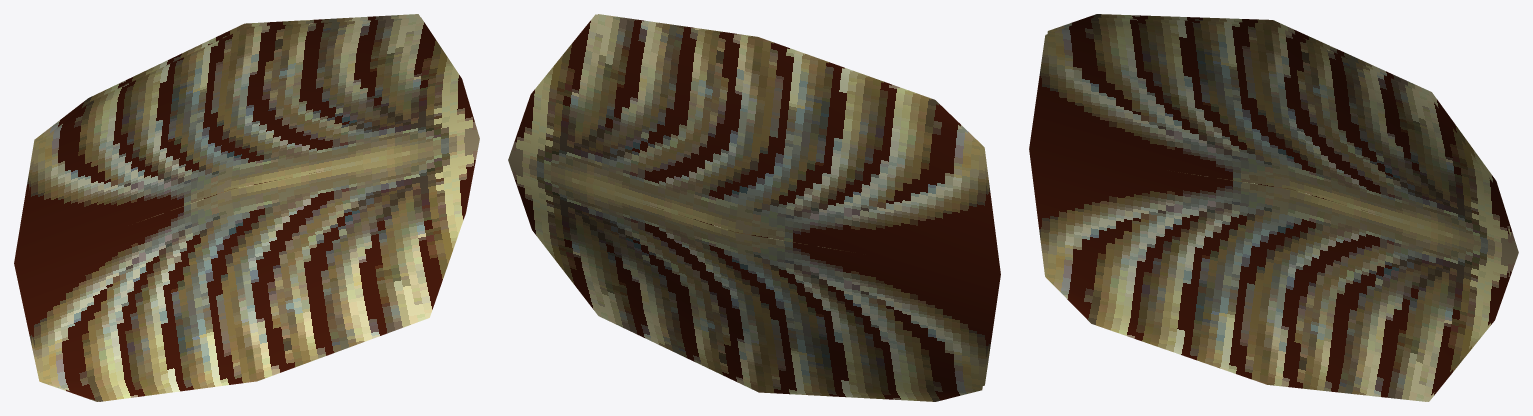
The picture shows the model from 3 angles, left to right: view 1: azimuth 30°, elevation 25°; view 2: azimuth 150°, elevation 25°; view 3: azimuth 330°, elevation 25°; orthographic projection. The views are drawn at different scales.
Visible parts, largest first — view 1: IT212_DMSPRITEDEF_node; view 2: IT212_DMSPRITEDEF_node; view 3: IT212_DMSPRITEDEF_node.
Part boxes in pixels (x1,y1,x2,y2): IT212_DMSPRITEDEF_node: (14,14,479,401); IT212_DMSPRITEDEF_node: (508,14,1000,401); IT212_DMSPRITEDEF_node: (1029,14,1518,401).
Bounding box in the file's own units: 2.6 × 1.86 × 0.3379.
1 material, 1 textured.
